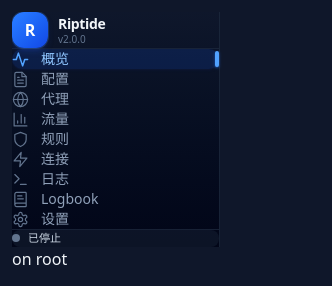
it: /config route — Config top-level tab › clicking the Sidebar Config entry navigates to /config
The width and height of the screenshot is (332, 286).
expect the text "on root" is shown: met, box [12, 248, 67, 270]
Click the link "配置" at (40, 78), box [12, 69, 69, 88]
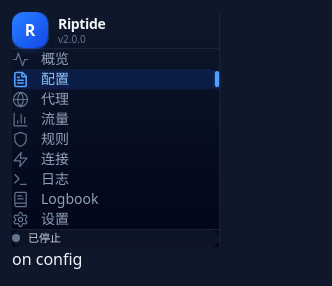
expect the text "on config" is shown: met, box [12, 248, 82, 270]
